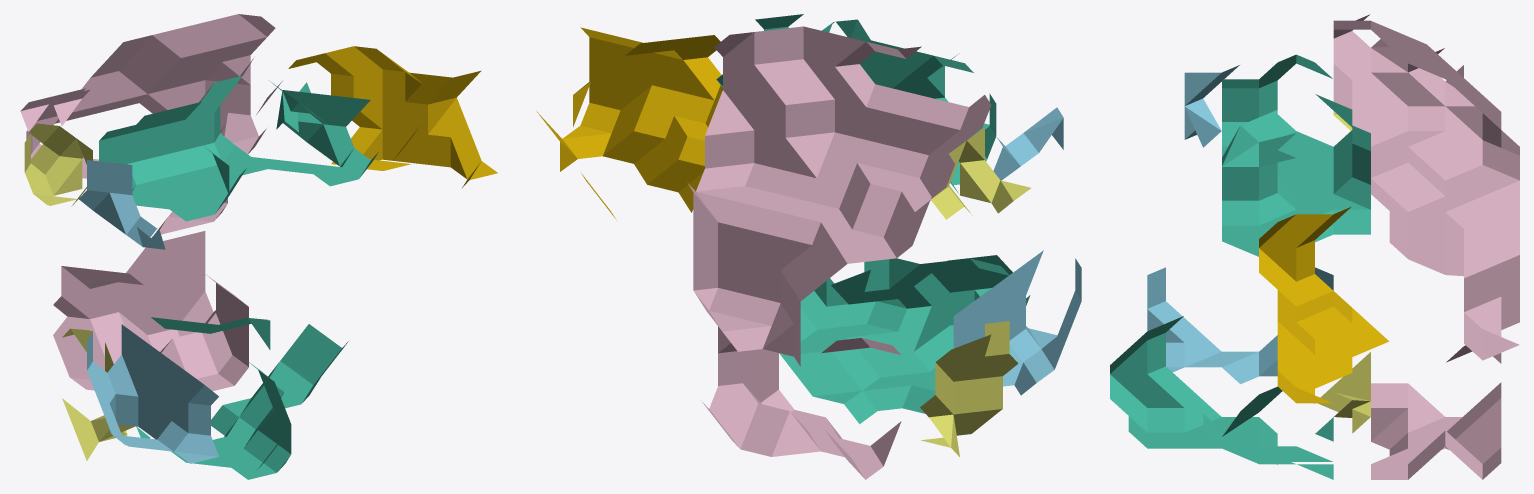
File: hypothalamic_subunits_seg.v1.glb
3 renders of one model, left to right at view 1: azimuth 30°, elevation 25°; view 2: azimuth 150°, elevation 25°; view 3: azimuth 270°, elevation 25°, orthographic. The views are drawn at different scales.
Visible parts, largest first — view 1: 809_R_hypothalamus_tubular_inferior, 805_L_hypothalamus_tubular_superior, 804_L_hypothalamus_tubular_inferior, 803_L_hypothalamus_posterior, 807_R_hypothalamus_anterior_superior, 810_R_hypothalamus_tubular_superior, 801_L_hypothalamus_anterior_inferior, 802_L_hypothalamus_anterior_superior, 806_R_hypothalamus_anterior_inferior; view 2: 804_L_hypothalamus_tubular_inferior, 810_R_hypothalamus_tubular_superior, 803_L_hypothalamus_posterior, 809_R_hypothalamus_tubular_inferior, 806_R_hypothalamus_anterior_inferior, 807_R_hypothalamus_anterior_superior, 805_L_hypothalamus_tubular_superior, 801_L_hypothalamus_anterior_inferior, 802_L_hypothalamus_anterior_superior; view 3: 804_L_hypothalamus_tubular_inferior, 805_L_hypothalamus_tubular_superior, 803_L_hypothalamus_posterior, 810_R_hypothalamus_tubular_superior, 809_R_hypothalamus_tubular_inferior, 807_R_hypothalamus_anterior_superior, 802_L_hypothalamus_anterior_superior, 806_R_hypothalamus_anterior_inferior.
Boxes of the visible parts, left/top/right/bottom form: 809_R_hypothalamus_tubular_inferior: left=53, top=231, right=248, bottom=390; 805_L_hypothalamus_tubular_superior: left=99, top=75, right=378, bottom=221; 804_L_hypothalamus_tubular_inferior: left=20, top=14, right=282, bottom=234; 803_L_hypothalamus_posterior: left=288, top=46, right=497, bottom=187; 807_R_hypothalamus_anterior_superior: left=87, top=324, right=218, bottom=463; 810_R_hypothalamus_tubular_superior: left=136, top=317, right=348, bottom=479; 801_L_hypothalamus_anterior_inferior: left=24, top=123, right=92, bottom=206; 802_L_hypothalamus_anterior_superior: left=79, top=160, right=165, bottom=249; 806_R_hypothalamus_anterior_inferior: left=62, top=328, right=134, bottom=460; 804_L_hypothalamus_tubular_inferior: left=688, top=26, right=991, bottom=366; 810_R_hypothalamus_tubular_superior: left=779, top=255, right=1030, bottom=424; 803_L_hypothalamus_posterior: left=536, top=27, right=722, bottom=220; 809_R_hypothalamus_tubular_inferior: left=702, top=326, right=901, bottom=479; 806_R_hypothalamus_anterior_inferior: left=920, top=321, right=1018, bottom=456; 807_R_hypothalamus_anterior_superior: left=953, top=250, right=1081, bottom=395; 805_L_hypothalamus_tubular_superior: left=716, top=14, right=996, bottom=193; 801_L_hypothalamus_anterior_inferior: left=931, top=127, right=1030, bottom=219; 802_L_hypothalamus_anterior_superior: left=993, top=107, right=1063, bottom=180; 804_L_hypothalamus_tubular_inferior: left=1333, top=14, right=1519, bottom=360; 805_L_hypothalamus_tubular_superior: left=1222, top=54, right=1370, bottom=256; 803_L_hypothalamus_posterior: left=1259, top=207, right=1389, bottom=403; 810_R_hypothalamus_tubular_superior: left=1110, top=316, right=1333, bottom=479; 809_R_hypothalamus_tubular_inferior: left=1371, top=345, right=1501, bottom=479; 807_R_hypothalamus_anterior_superior: left=1147, top=267, right=1333, bottom=384; 802_L_hypothalamus_anterior_superior: left=1184, top=65, right=1239, bottom=147; 806_R_hypothalamus_anterior_inferior: left=1318, top=352, right=1370, bottom=433.
Bounding box in the file's own units: 15 × 12 × 11.
